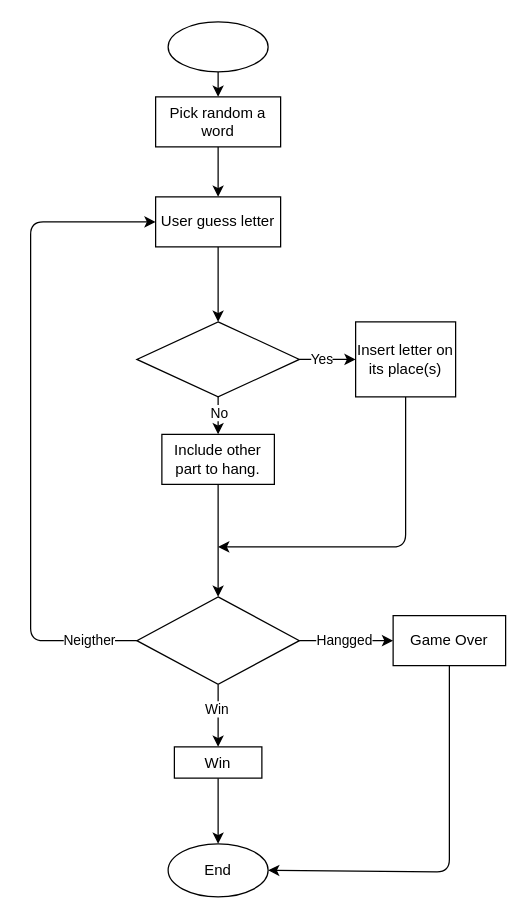
This 528x919 diagram has some shape labels left out. Each missing label, with the centre of its shape:
"Is hanged or win?" goes at (217,640).
"Is letter on word?" goes at (217,359).
"Start" goes at (217,46).
